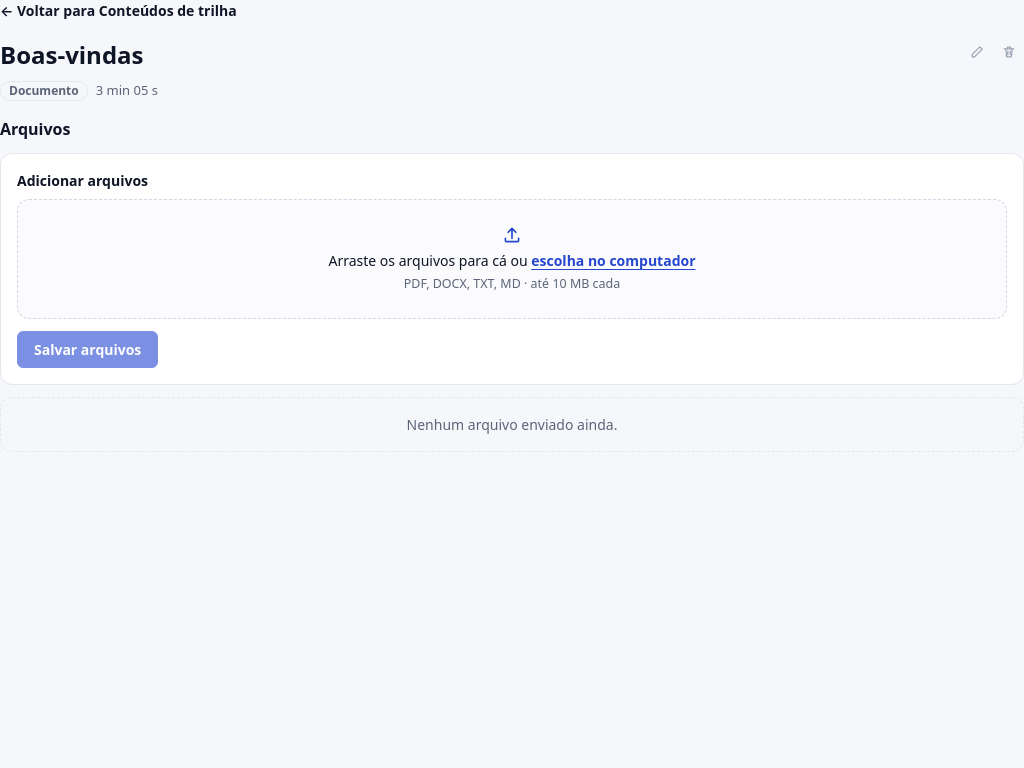
DocumentoDetalhePage › excluir em uso numa trilha mostra o 409 da API
The width and height of the screenshot is (1024, 768).
Click the button named "Excluir ".
click(1009, 52)  # box [994,37,1023,67]
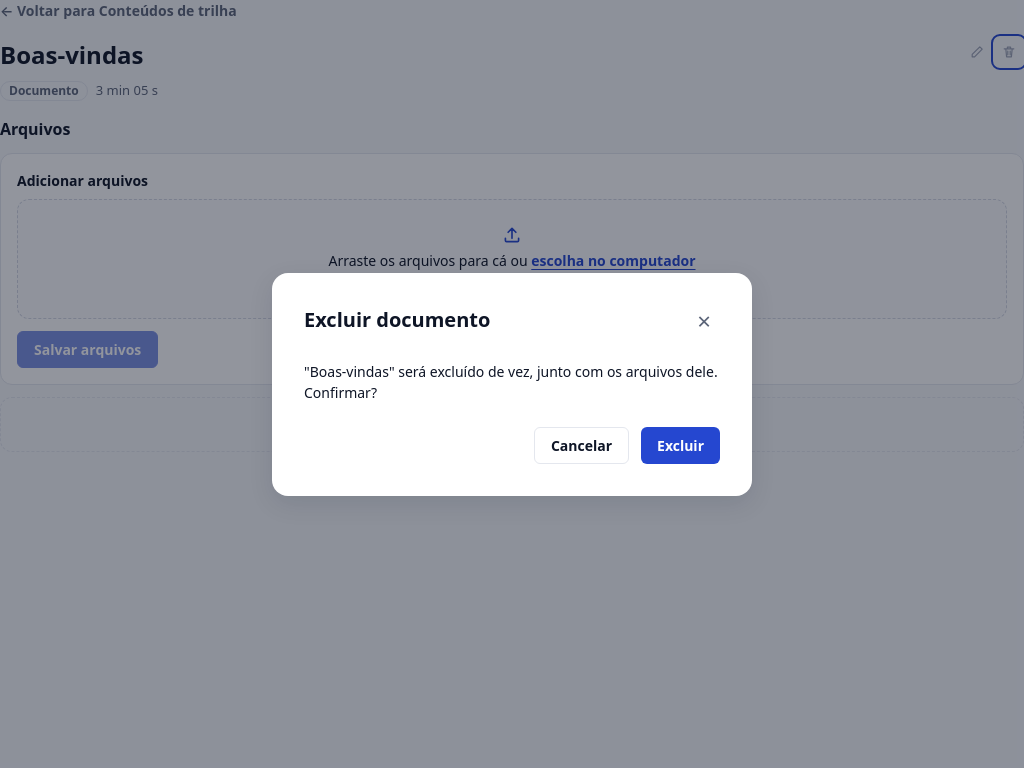
Click the button "Excluir".
click(680, 445)  # box [641,426,720,464]
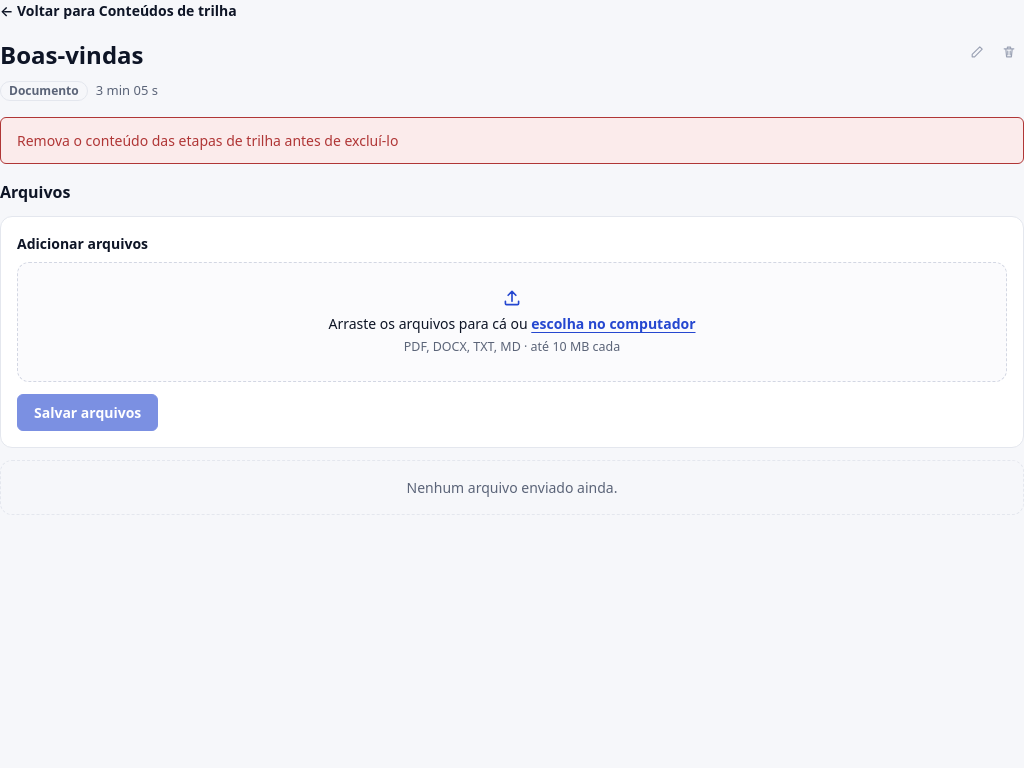
Now the message shows "Remova o conteúdo das etapas de trilha", box [17,131,398,150]
